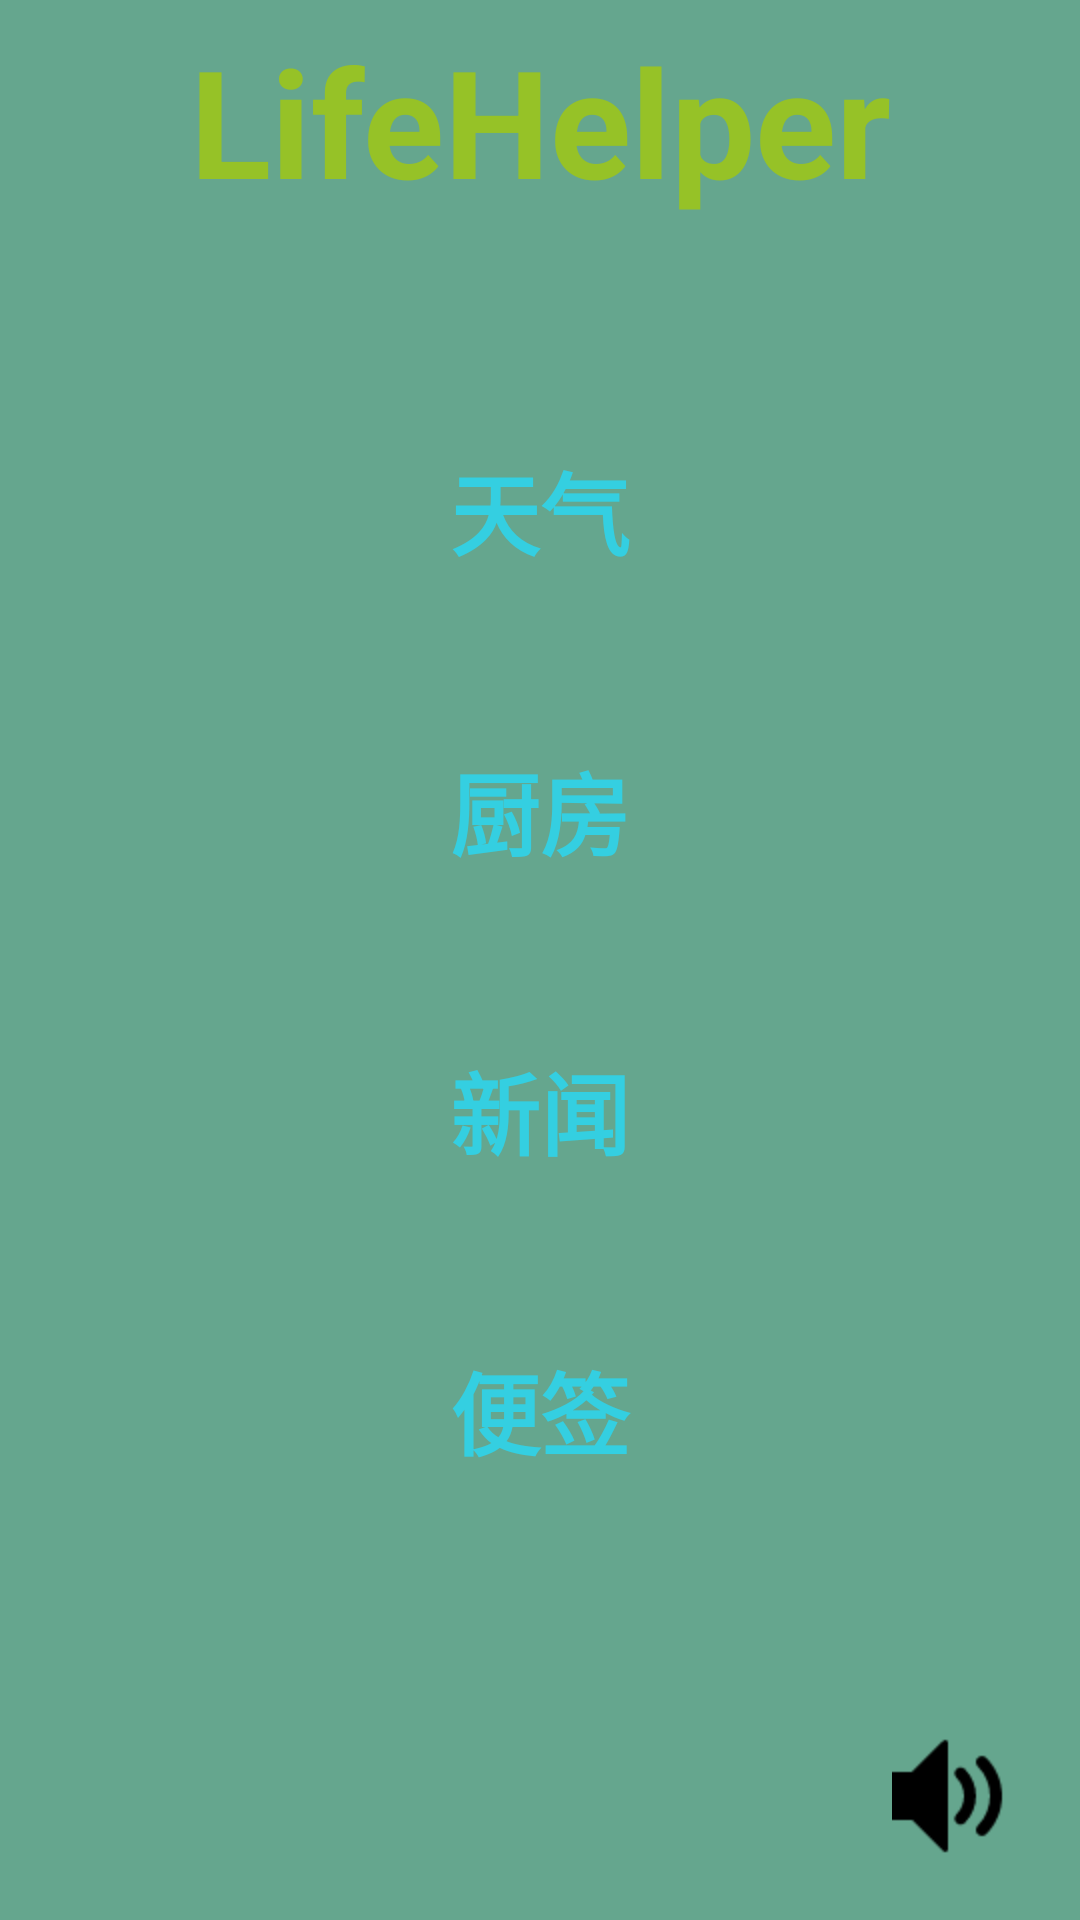

Where icons sit on this 1080 x 1920 app screen, as (x1,y1,x2,y2):
music open: (892,1739,1003,1853)
